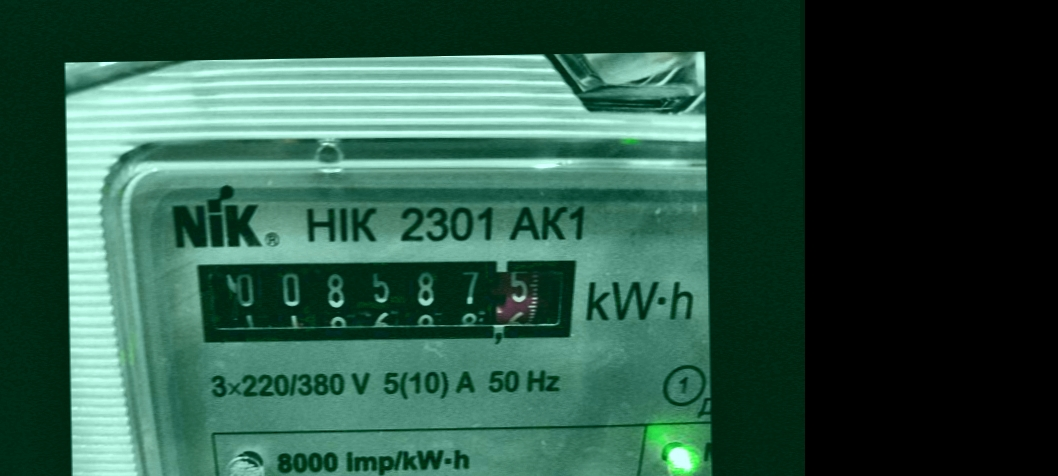0: (277, 268, 302, 309)
1: (231, 269, 256, 310)
5: (506, 265, 531, 306), (368, 268, 392, 306)
7: (457, 267, 481, 308)
8: (321, 269, 347, 311), (413, 268, 435, 309)
screen: (176, 238, 596, 364)
